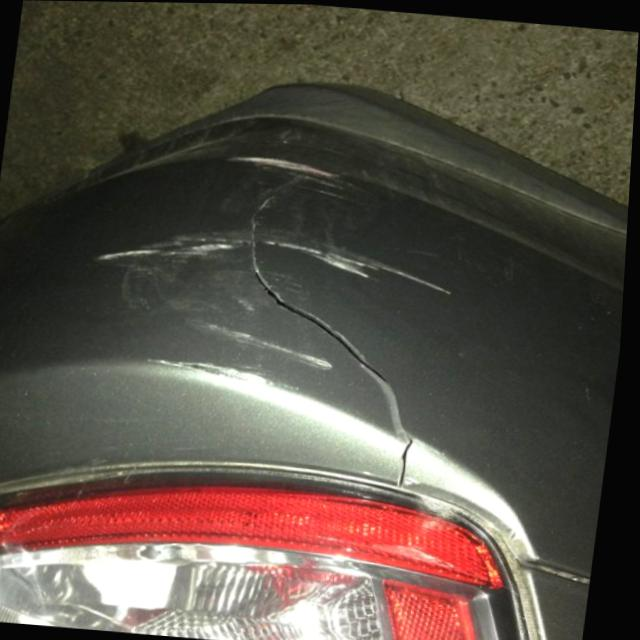Crack: (243, 221, 416, 495)
Scratch: (89, 223, 466, 297), (205, 149, 354, 203), (200, 319, 343, 371), (146, 356, 297, 395)
